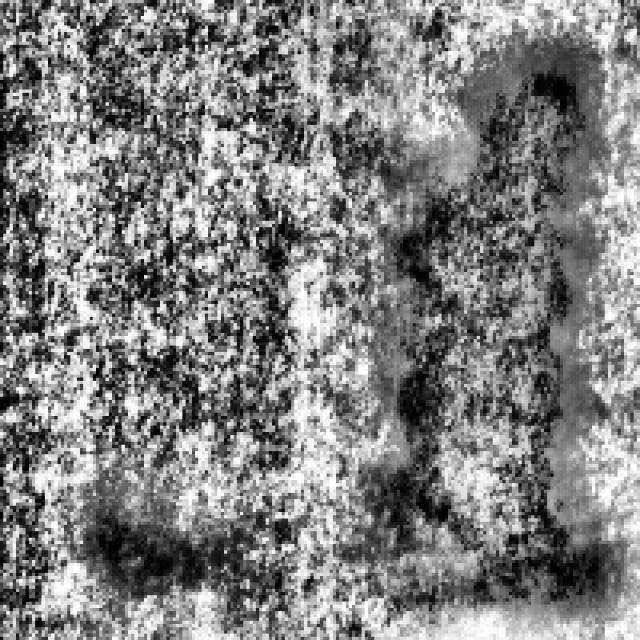Scratches: (362, 51, 618, 605), (80, 492, 176, 582)
